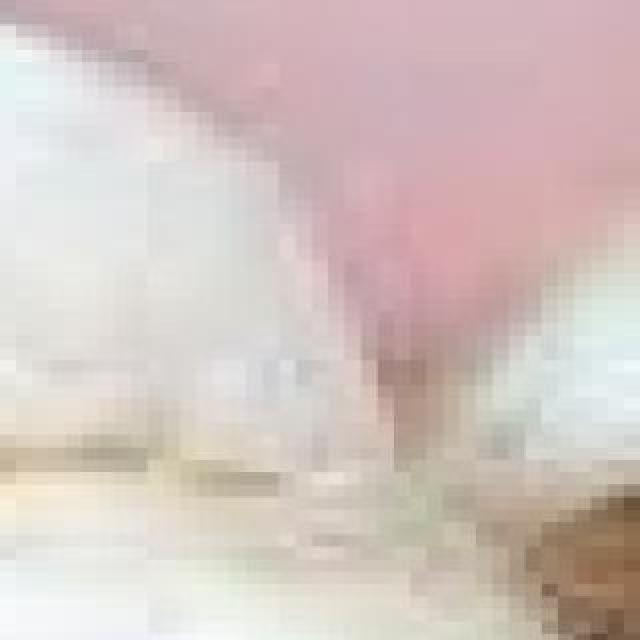cavities: (390, 438, 640, 640)
